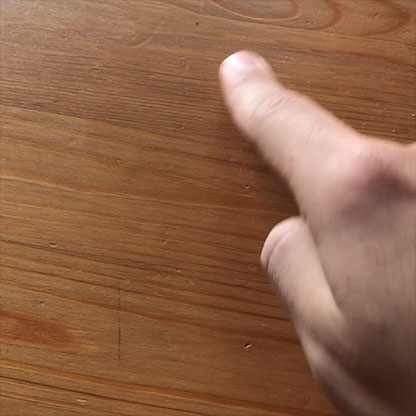fingertip: (212, 42, 279, 90)
